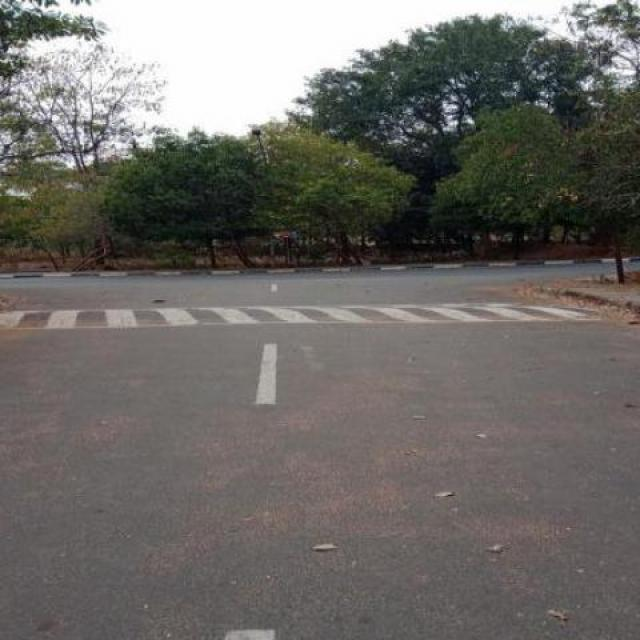Speed Bump: (0, 302, 611, 330)
